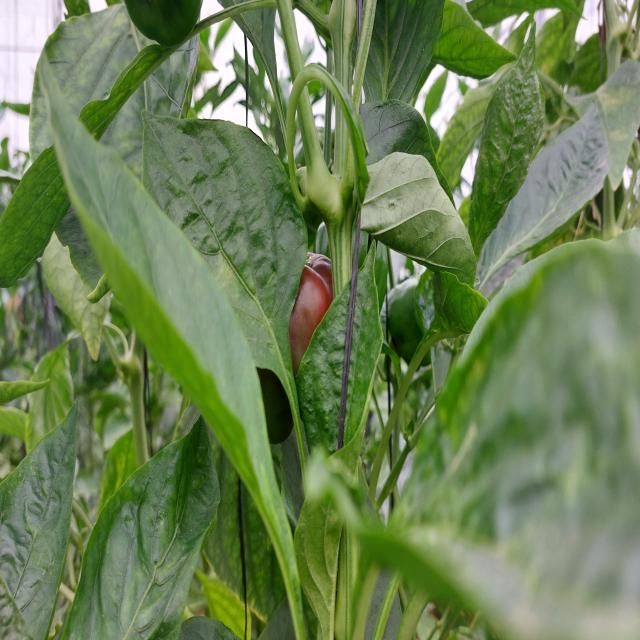BrownishRed--Can-be-Harvested: (202, 242, 348, 465)
